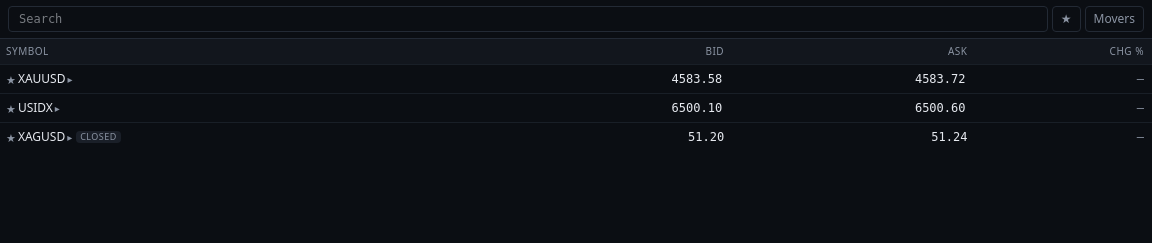
Scenario: a watchlist row ticket › offers no price to deal at on a closed market
The width and height of the screenshot is (1152, 243).
Click the button "▸" next to "XAGUSD".
click(70, 137)  # box [67,132,72,142]
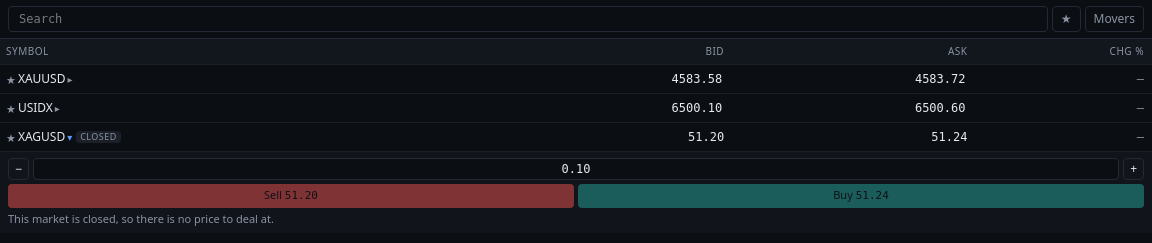
Expected: the text "This market is closed, so there is no price to deal at." is shown, [8,211,274,226]
Expected: the button with aria-label "lots of XAGUSD" is disabled, [8,184,574,208]
